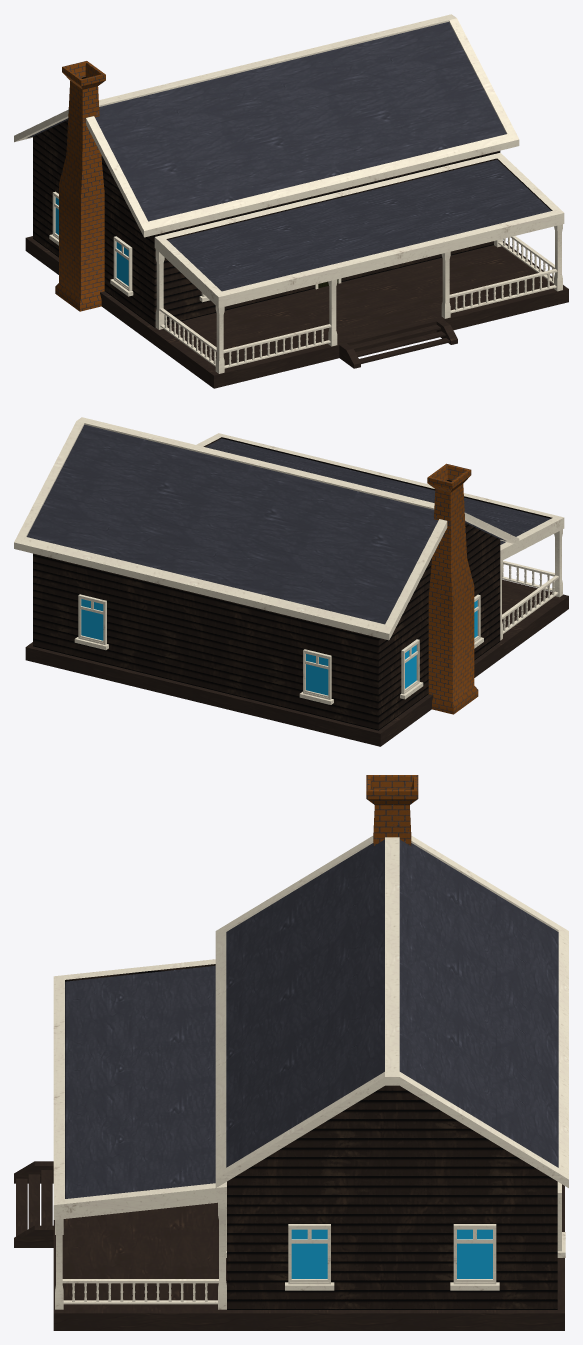
File: House_01.fbx
The picture shows the model from 3 angles, top to bottom: view 1: azimuth 30°, elevation 25°; view 2: azimuth 150°, elevation 25°; view 3: azimuth 270°, elevation 25°; orthographic projection. The views are drawn at different scales.
Parts seen in each view (by area): view 1: Plane.042, Plane.043, Cube.010, Plane.044, Plane.047, Plane.048, Plane.045, Plane.046; view 2: Plane.043, Plane.042, Cube.010, Plane.049, Plane.044, Plane.048, Plane.046; view 3: Plane.042, Plane.043, Plane.048, Plane.044, Cube.010, Plane.047, Plane.046.
Boxes of the visible parts, left/top/right/bottom form: Plane.042: left=25, top=120, right=568, bottom=388; Plane.043: left=14, top=14, right=519, bottom=237; Cube.010: left=55, top=61, right=105, bottom=311; Plane.044: left=155, top=224, right=562, bottom=373; Plane.047: left=350, top=324, right=450, bottom=363; Plane.048: left=49, top=191, right=133, bottom=296; Plane.045: left=228, top=274, right=549, bottom=365; Plane.046: left=164, top=237, right=554, bottom=364; Plane.043: left=14, top=417, right=519, bottom=640; Plane.042: left=25, top=433, right=568, bottom=746; Cube.010: left=427, top=463, right=478, bottom=714; Plane.049: left=74, top=594, right=333, bottom=704; Plane.044: left=500, top=529, right=562, bottom=640; Plane.048: left=400, top=594, right=483, bottom=699; Plane.046: left=503, top=581, right=554, bottom=630; Plane.042: left=14, top=959, right=564, bottom=1330; Plane.043: left=215, top=835, right=568, bottom=1187; Plane.048: left=285, top=1224, right=499, bottom=1290; Plane.044: left=55, top=1202, right=226, bottom=1309; Cube.010: left=366, top=775, right=418, bottom=846; Plane.047: left=16, top=1170, right=52, bottom=1236; Plane.046: left=72, top=1283, right=207, bottom=1301.
Bounding box in the file's own units: 1809 × 1018 × 1656.
